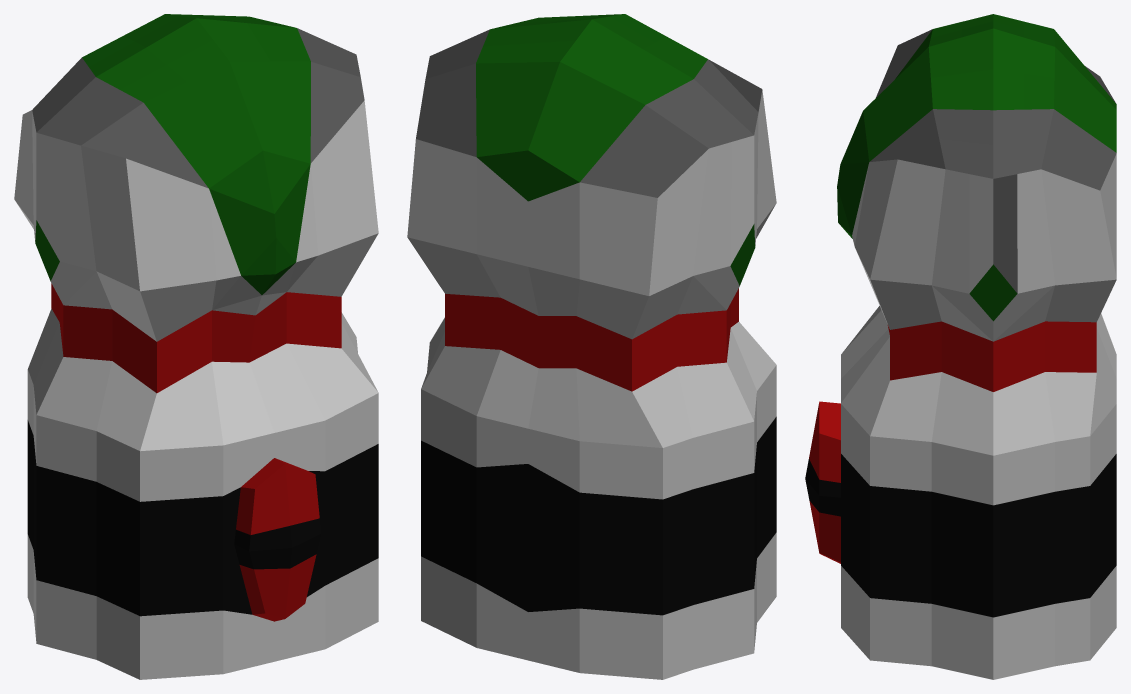
Rendered from Swift Feet Selling Machine.FBX.
3 views of the same model, side by side, from view 1: azimuth 30°, elevation 25°; view 2: azimuth 150°, elevation 25°; view 3: azimuth 270°, elevation 25° (orthographic). The views are drawn at different scales.
Visible parts, largest first — view 1: Box001; view 2: Box001; view 3: Box001.
Boxes of the visible parts, x1=… form: Box001: x1=14, y1=14, x2=378, y2=679; Box001: x1=407, y1=14, x2=776, y2=679; Box001: x1=805, y1=14, x2=1116, y2=679.
Bounding box in the file's own units: 431 × 755 × 371.
